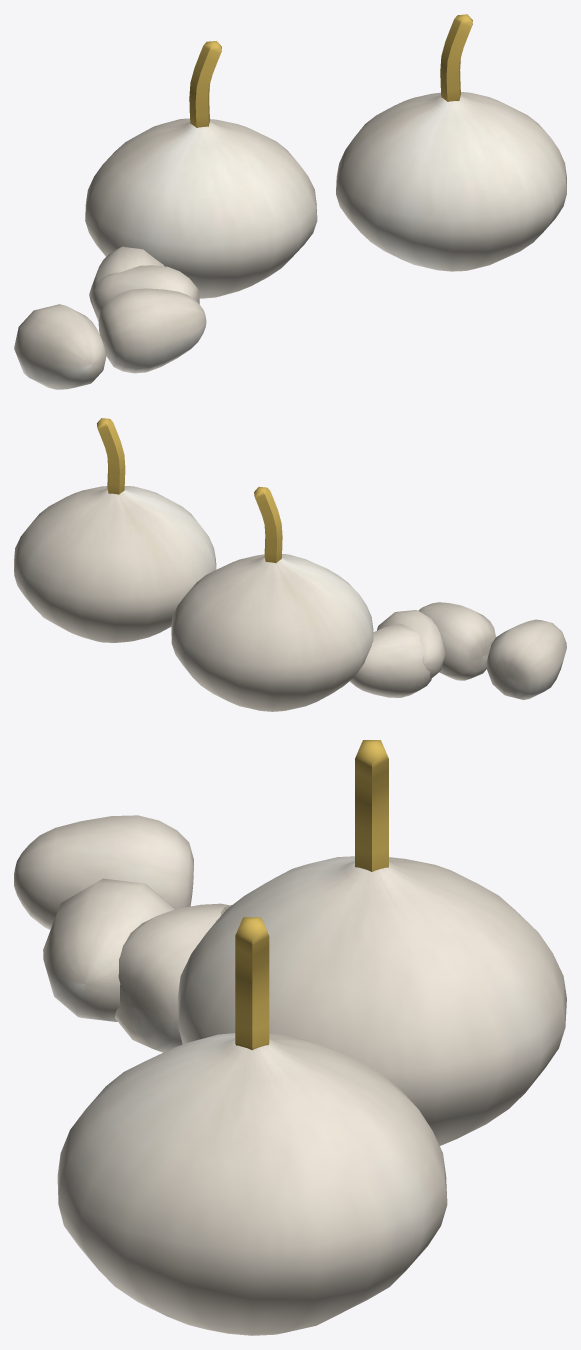
The model's file is veg_garlic_bulbs.glb.
The picture shows the model from 3 angles, top to bottom: view 1: azimuth 30°, elevation 25°; view 2: azimuth 150°, elevation 25°; view 3: azimuth 270°, elevation 25°; orthographic projection. The views are drawn at different scales.
Parts seen in each view (by area): view 1: veg_garlic_bulbs; view 2: veg_garlic_bulbs; view 3: veg_garlic_bulbs.
Part boxes in pixels (x1,y1,x2,y2): veg_garlic_bulbs: (14, 14, 566, 389); veg_garlic_bulbs: (14, 418, 566, 711); veg_garlic_bulbs: (14, 740, 566, 1335).
Size of the model in its own units: 0.1852 by 0.0747 by 0.0924.
Materials: 2 (1 with a texture image).
